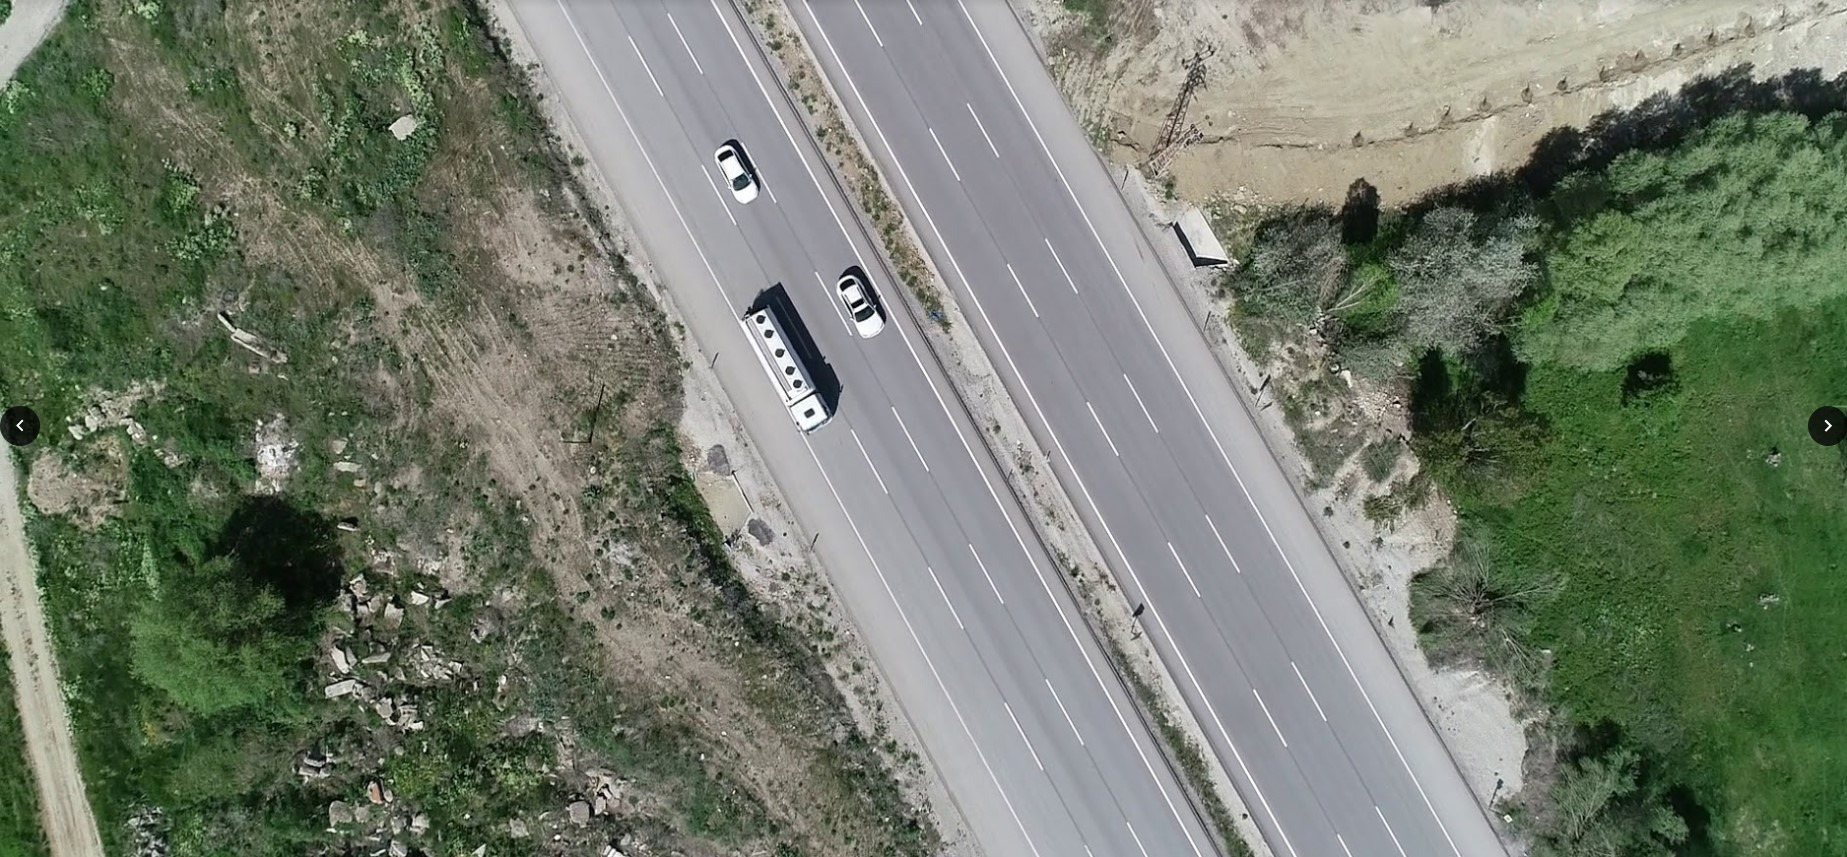araba: (838, 267, 886, 339), (713, 139, 757, 208)
kamyon: (744, 305, 830, 436)
